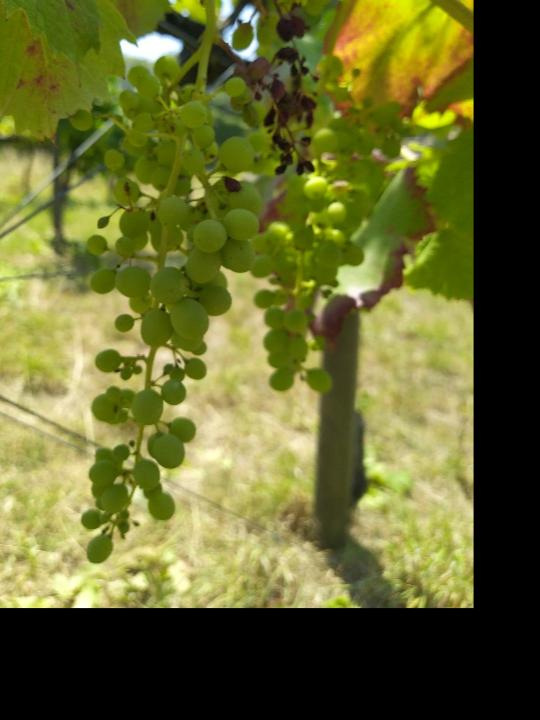grape: (64, 58, 274, 571), (255, 0, 335, 176)
